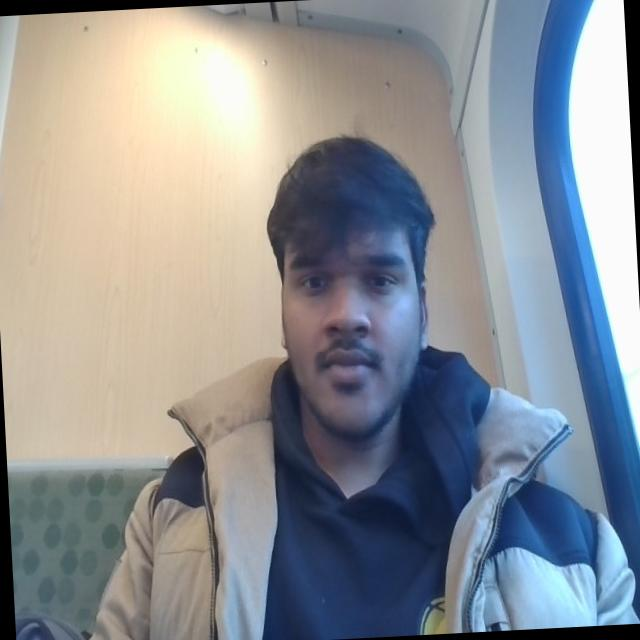no hat: (249, 111, 436, 227)
